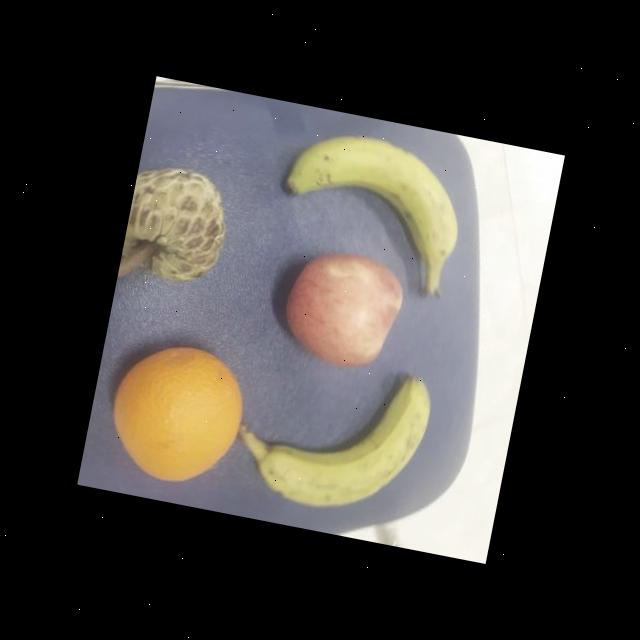Sakya fruit: (116, 150, 240, 301)
apple: (271, 240, 410, 378)
banana: (222, 345, 438, 526), (273, 115, 480, 288)
orange: (86, 327, 258, 496)
